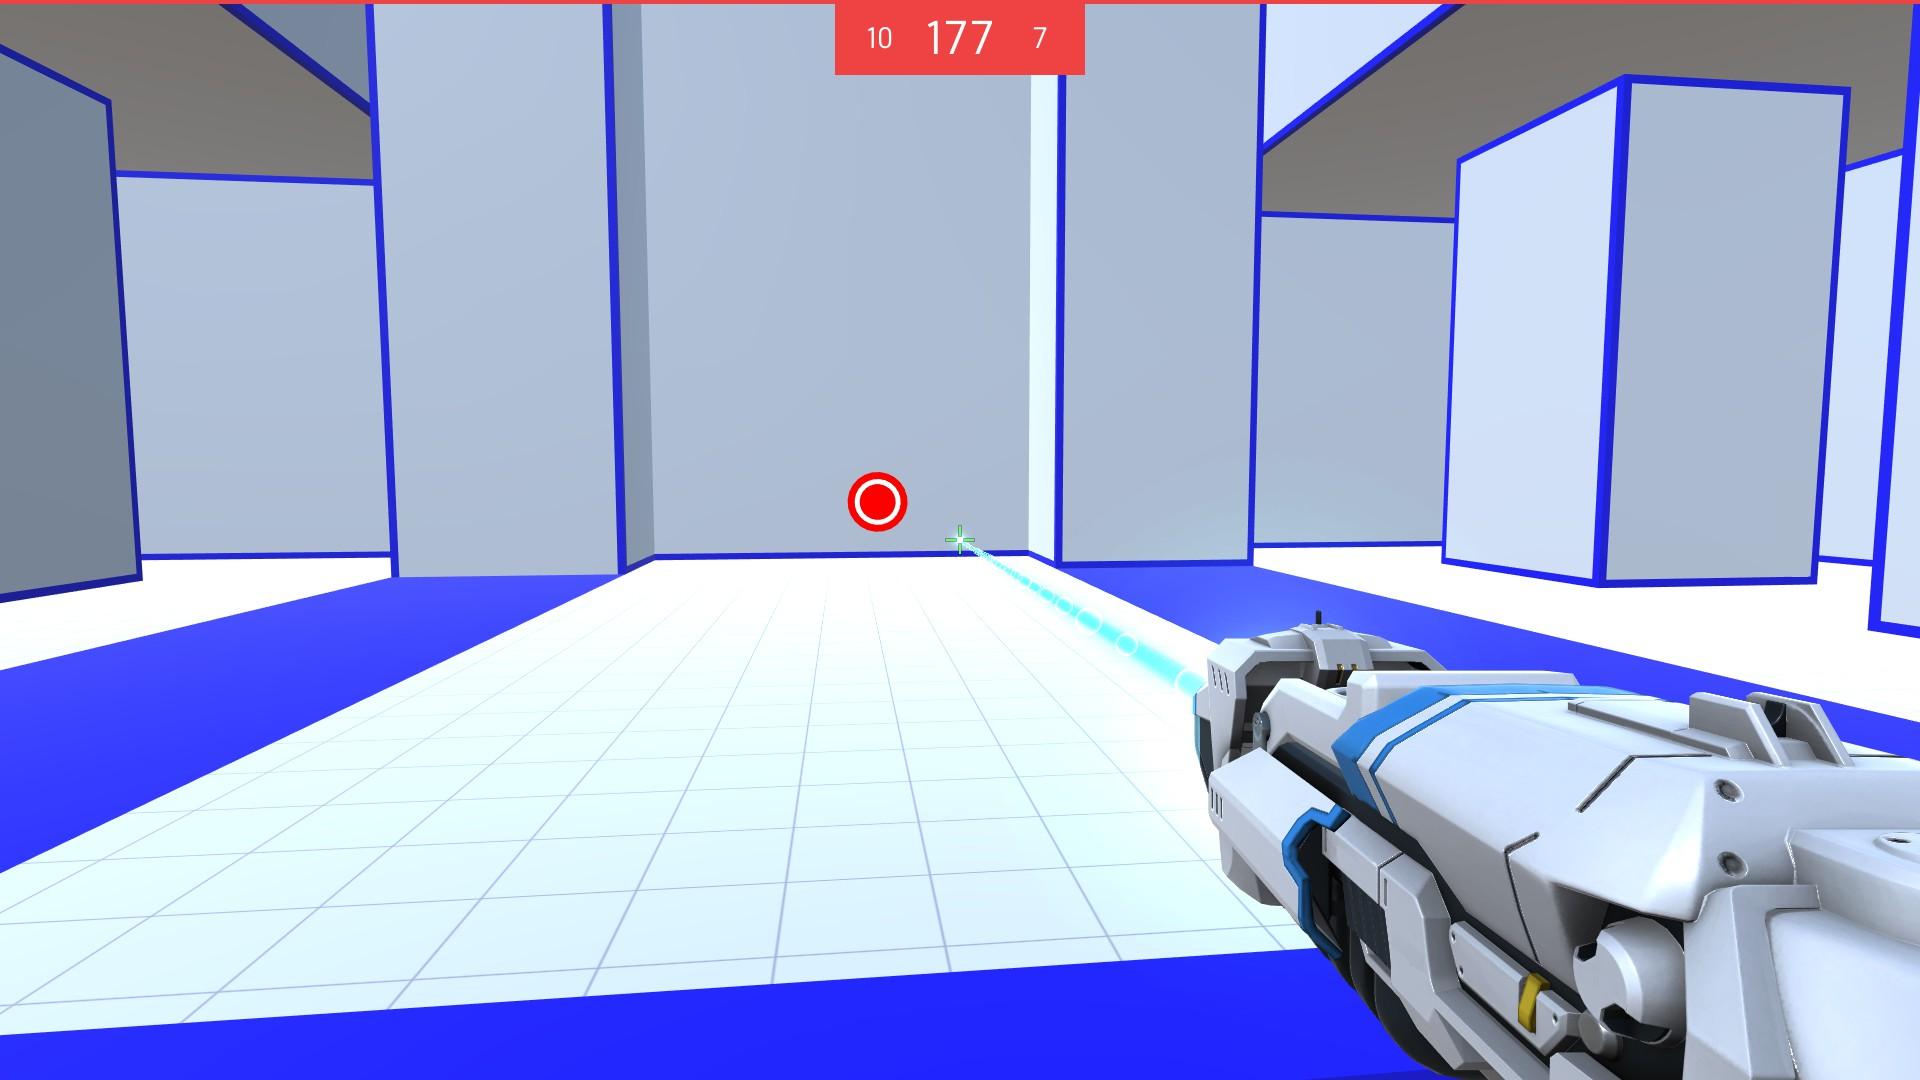target: (847, 464, 913, 537)
